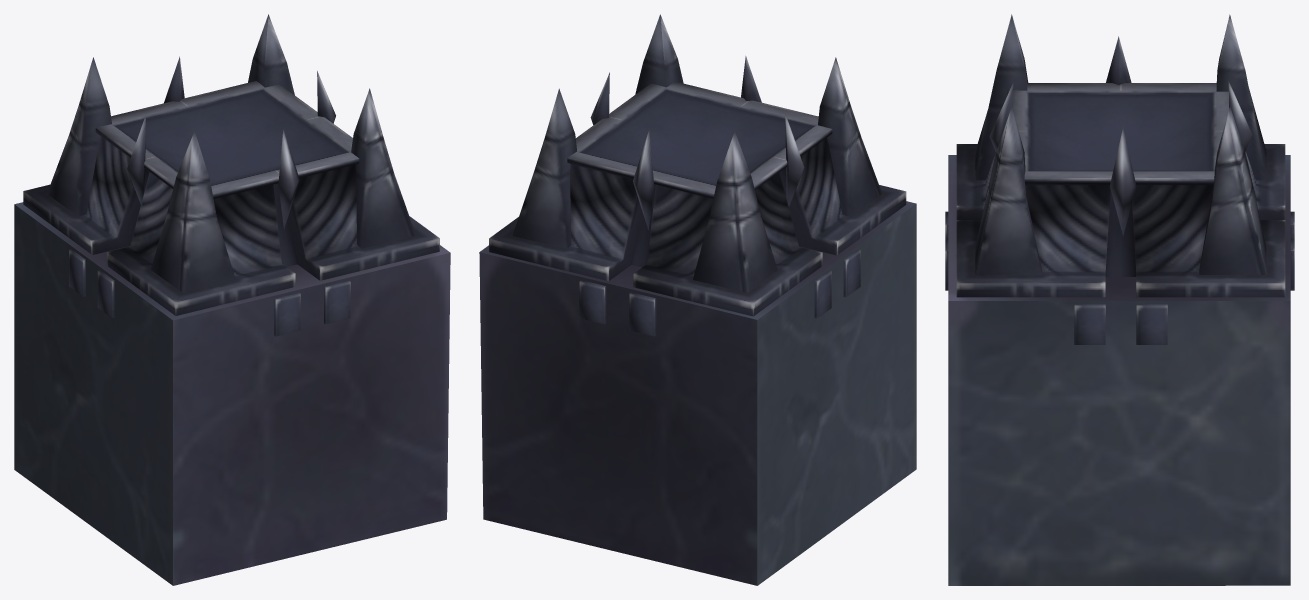
The model's file is Bedaying_xiaohuopen.FBX.
3 renders of one model, left to right at view 1: azimuth 30°, elevation 25°; view 2: azimuth 150°, elevation 25°; view 3: azimuth 270°, elevation 25°, orthographic. The views are drawn at different scales.
Visible parts, largest first — view 1: Bedaying_xiaohuopen; view 2: Bedaying_xiaohuopen; view 3: Bedaying_xiaohuopen.
Part boxes in pixels (bbox=[...]): Bedaying_xiaohuopen: bbox=[14, 14, 450, 585]; Bedaying_xiaohuopen: bbox=[479, 14, 916, 585]; Bedaying_xiaohuopen: bbox=[945, 14, 1294, 585].
Bounding box in the file's own units: 34.18 × 34 × 48.8.
